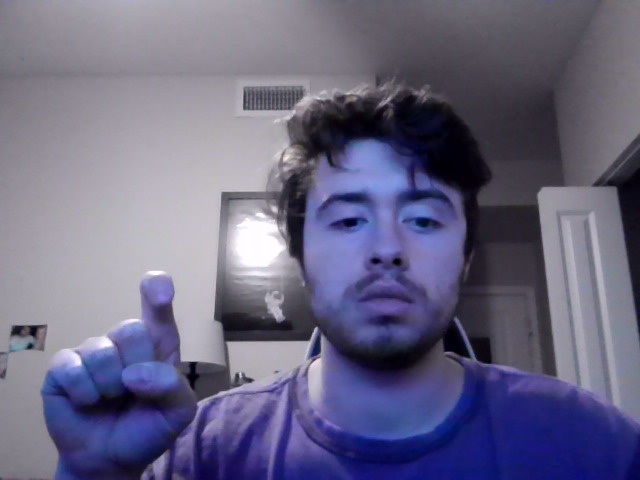x: (39, 270, 199, 480)
